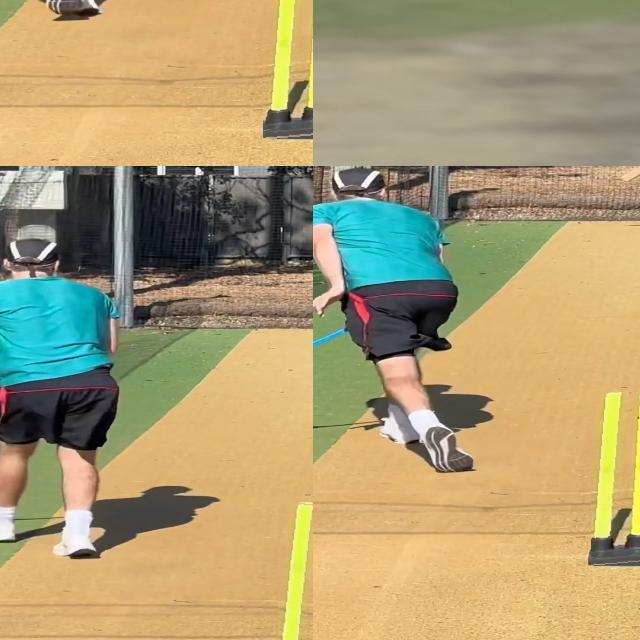Stumps: (591, 392, 640, 566), (263, 0, 313, 140), (277, 501, 313, 640)
